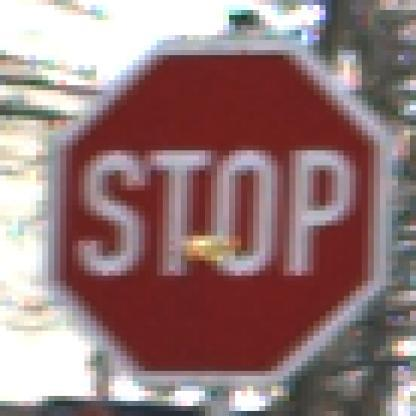Stop: (56, 43, 387, 378)
